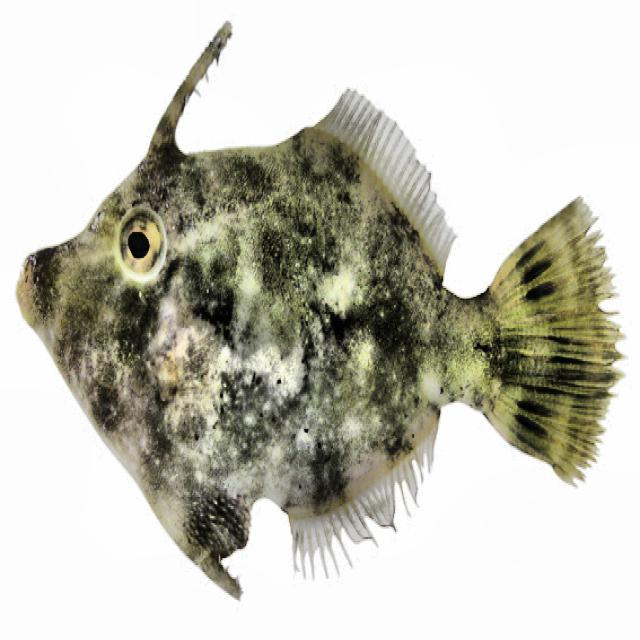fish: (15, 20, 618, 598)
